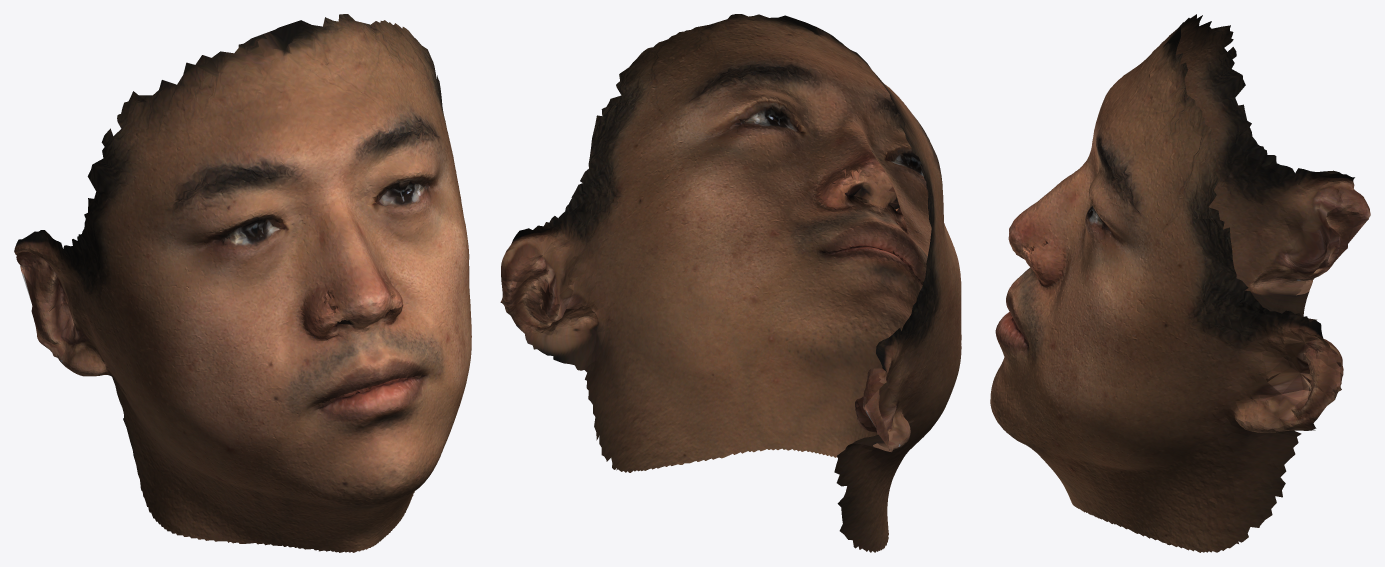
File: predicted_face.obj
3 views of the same model, side by side, from view 1: azimuth 30°, elevation 25°; view 2: azimuth 150°, elevation 25°; view 3: azimuth 270°, elevation 25° (orthographic). The views are drawn at different scales.
Bounding box in the file's own units: 0.1967 × 0.2344 × 0.1729.
Materials: 1 (1 with a texture image).
